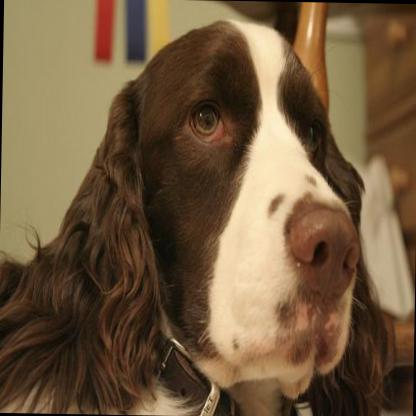English_springer: (0, 11, 393, 416)
